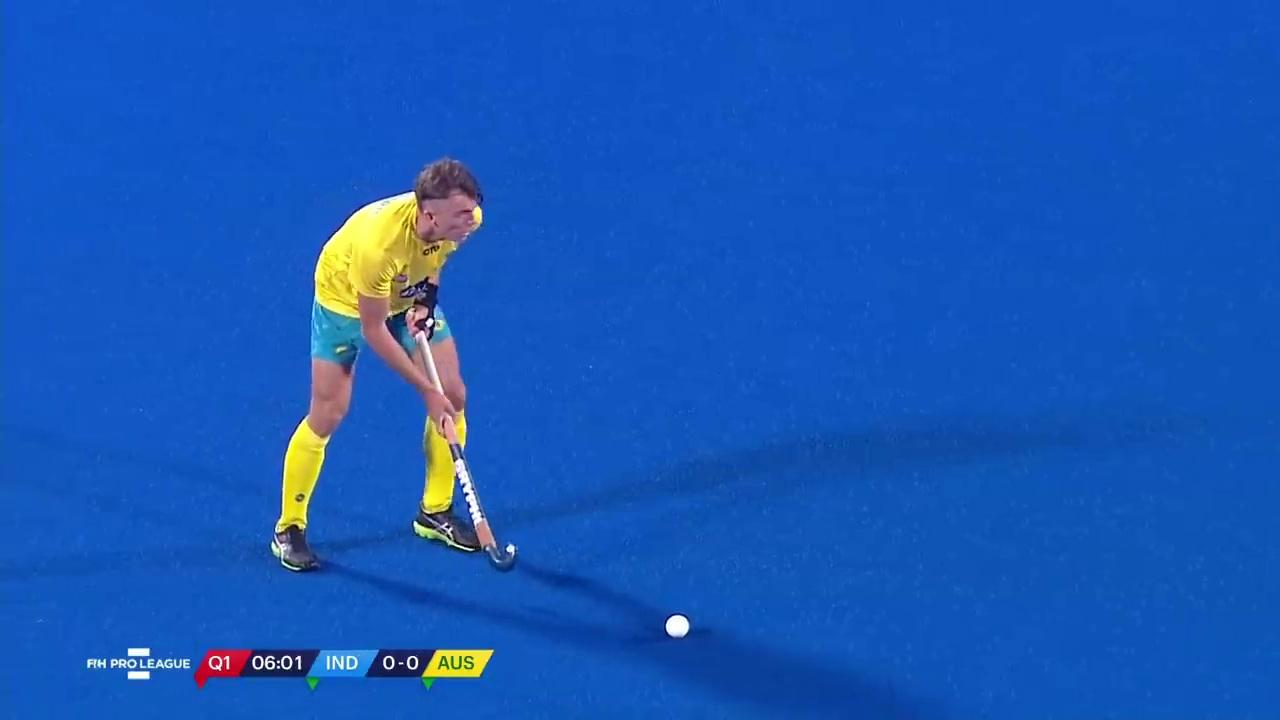ball: (655, 599, 698, 648)
